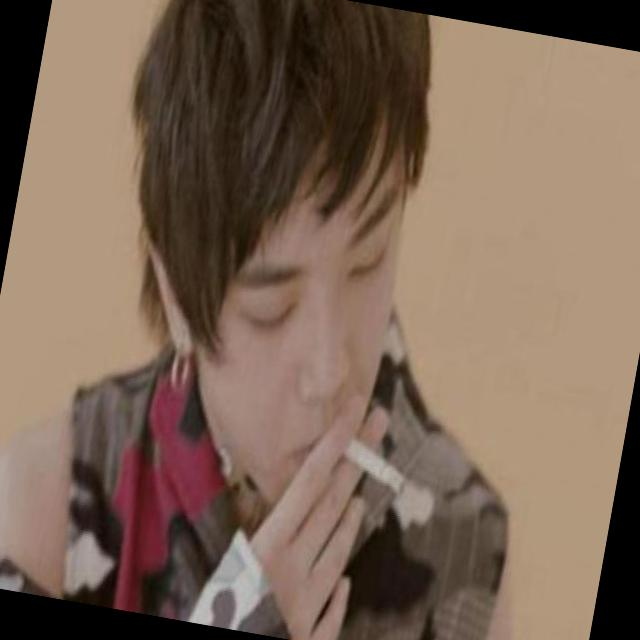cigarette: (222, 413, 413, 640)
